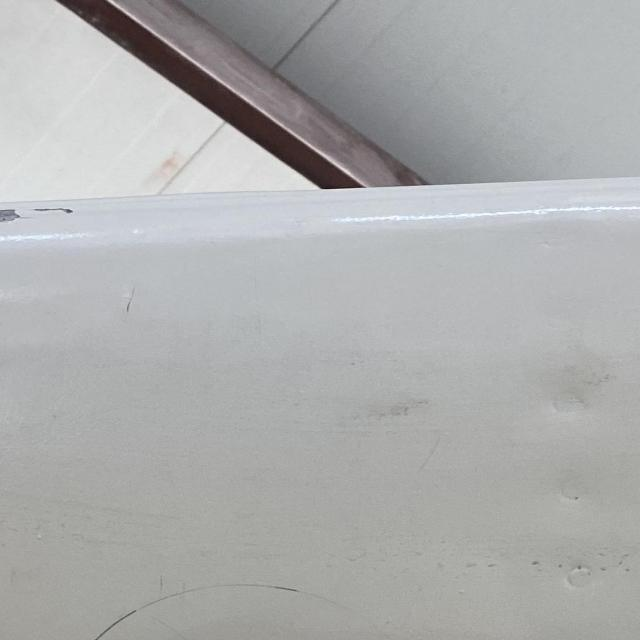Paint-off: (26, 204, 73, 212), (0, 207, 20, 221)
